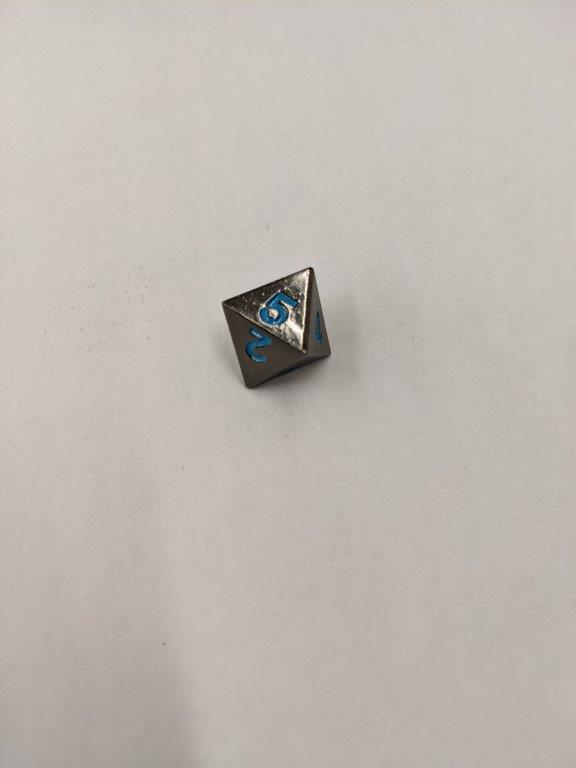d8-5: (220, 265, 334, 391)
